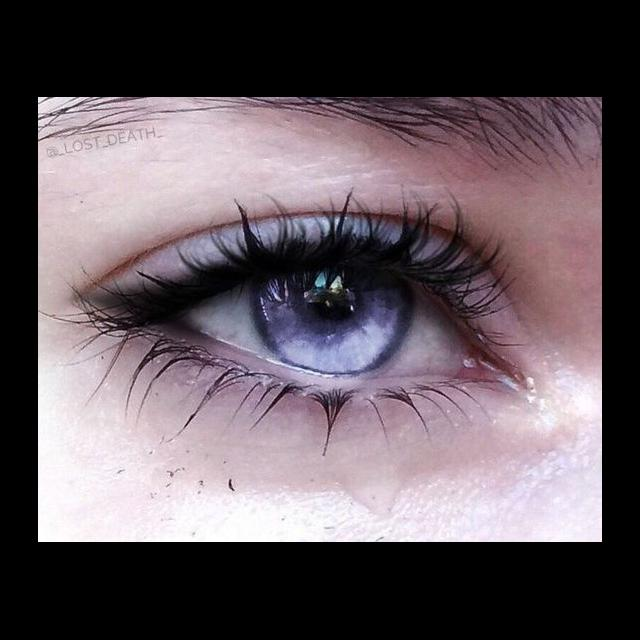eye: (179, 261, 473, 380)
iris: (256, 265, 418, 371)
